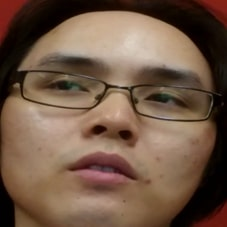drowsy: (31, 45, 206, 200)
